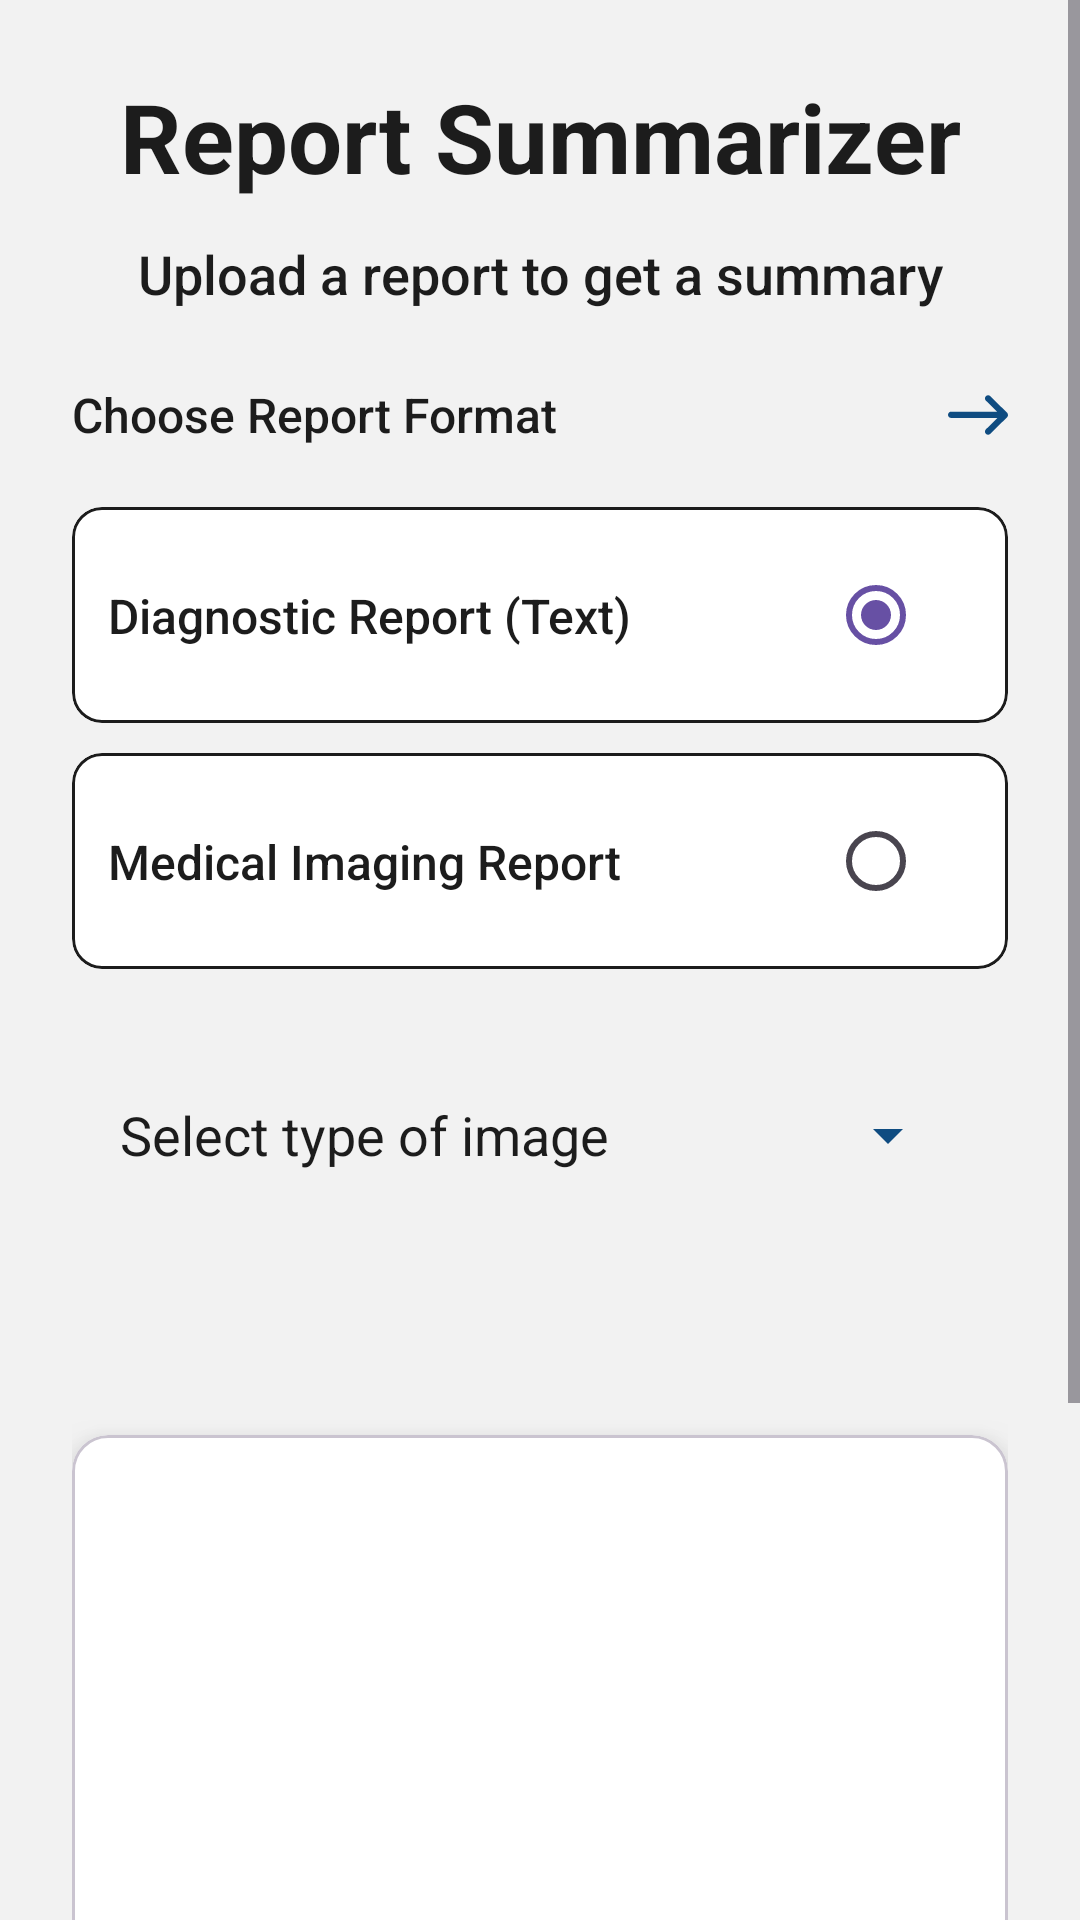

Screen size 1080 x 1920. Icon name, then its center in pixels as (x,y):
Arrow: (978,415)
